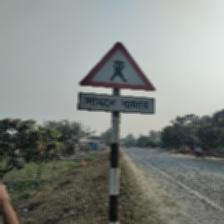Market-in-front: (77, 41, 157, 116)
